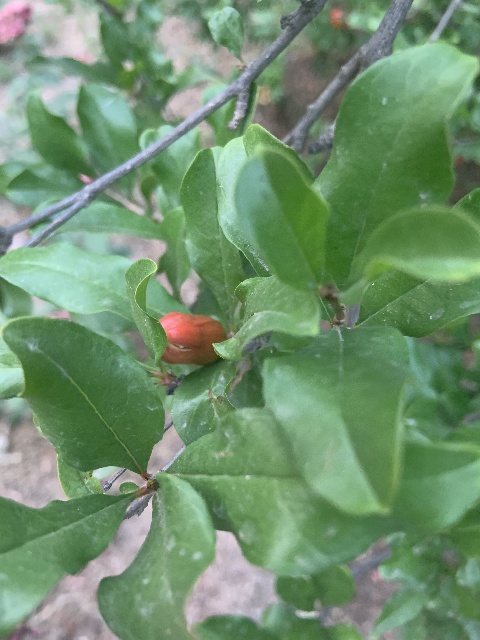bud: (157, 312, 226, 365)
